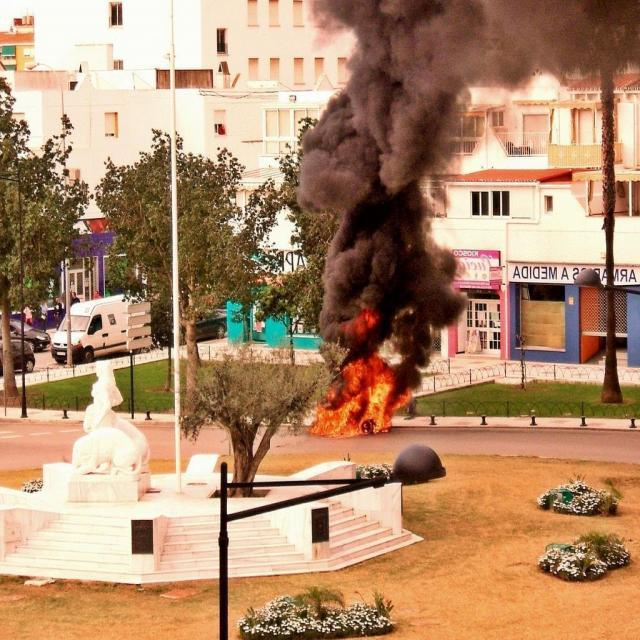smoke: (310, 0, 465, 333)
